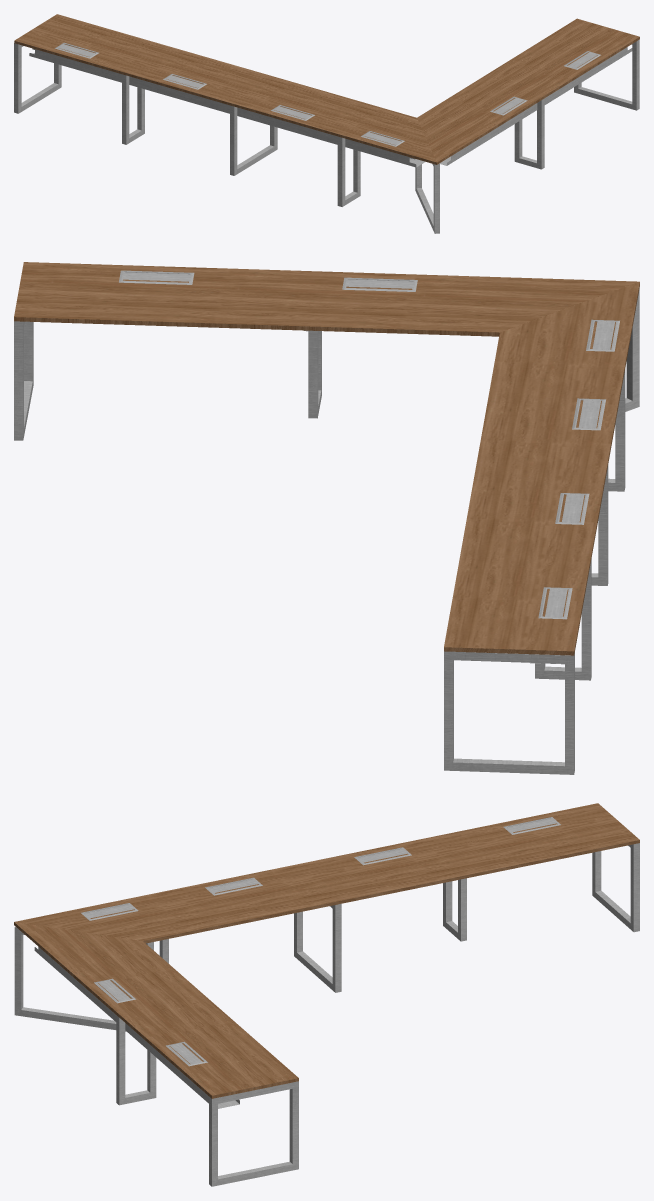
File: MesaLateral.fbx
3 views of the same model, one above another, from view 1: azimuth 30°, elevation 25°; view 2: azimuth 150°, elevation 25°; view 3: azimuth 270°, elevation 25° (orthographic). The views are drawn at different scales.
Parts seen in each view (by area): view 1: group_ 4.092, group_ 3.113, group_ 3.115, group_ 8.063, group_.328, group_ 6.070, group_ 2.227, group_ 7.065, group_ 5.085, group_ 3.116, CX_TOMADAS#2, CX_TOMADAS#2 2 (+4 smaller); view 2: group_ 4.092, group_.328, group_ 2.227, group_ 5.085, group_ 3.116, group_ 7.065, group_ 8.063, group_ 6.070, CX_TOMADAS#2 2.001, CX_TOMADAS#2.001, CX_TOMADAS#2 3, CX_TOMADAS#3 (+2 smaller); view 3: group_ 4.092, group_ 2.227, group_ 3.116, group_.328, group_ 6.070, group_ 7.065, group_ 3.115, group_ 5.085.
Part boxes in pixels (box(x1,y1,x2,y2)): group_ 4.092: box(14, 14, 639, 164); group_ 3.113: box(29, 49, 425, 167); group_ 3.115: box(440, 47, 632, 165); group_ 8.063: box(337, 136, 360, 206); group_.328: box(14, 43, 61, 113); group_ 6.070: box(230, 105, 277, 175); group_ 2.227: box(574, 39, 639, 110); group_ 7.065: box(514, 98, 544, 169); group_ 5.085: box(122, 74, 144, 144); group_ 3.116: box(415, 163, 439, 233); CX_TOMADAS#2: box(163, 74, 206, 89); CX_TOMADAS#2 2: box(271, 105, 314, 120); group_ 4.092: box(14, 262, 639, 655); group_.328: box(444, 651, 574, 774); group_ 2.227: box(14, 321, 33, 440); group_ 5.085: box(535, 559, 591, 680); group_ 3.116: box(625, 289, 639, 411); group_ 7.065: box(304, 330, 321, 418); group_ 8.063: box(608, 369, 625, 491); group_ 6.070: box(591, 465, 608, 585); CX_TOMADAS#2 2.001: box(119, 270, 194, 284); CX_TOMADAS#2.001: box(342, 277, 417, 291); CX_TOMADAS#2 3: box(586, 319, 619, 351); CX_TOMADAS#3: box(538, 587, 572, 619); group_ 4.092: box(14, 803, 639, 1098); group_ 2.227: box(209, 1081, 298, 1186); group_ 3.116: box(14, 926, 126, 1031); group_.328: box(592, 843, 639, 932); group_ 6.070: box(294, 903, 341, 992); group_ 7.065: box(116, 1015, 156, 1105); group_ 3.115: box(34, 947, 239, 1108); group_ 5.085: box(443, 878, 466, 941).
Size of the model in its own units: 502 by 73.21 by 454.
2 materials, 2 textured.
